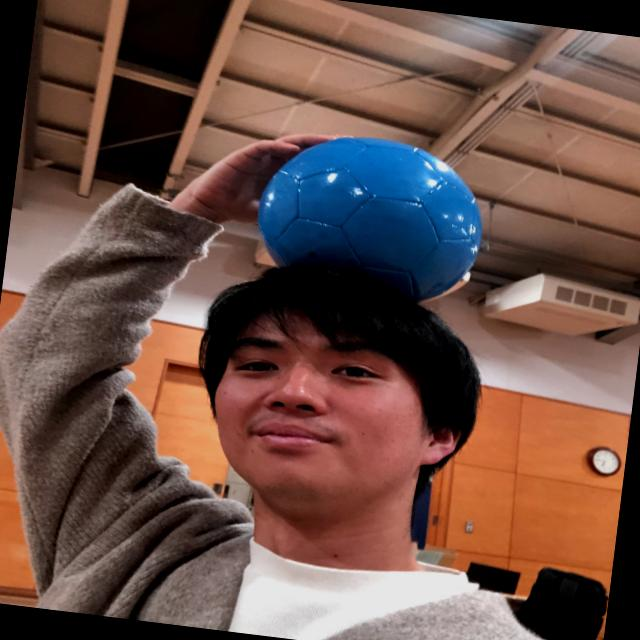blue_ball: (252, 124, 496, 321)
